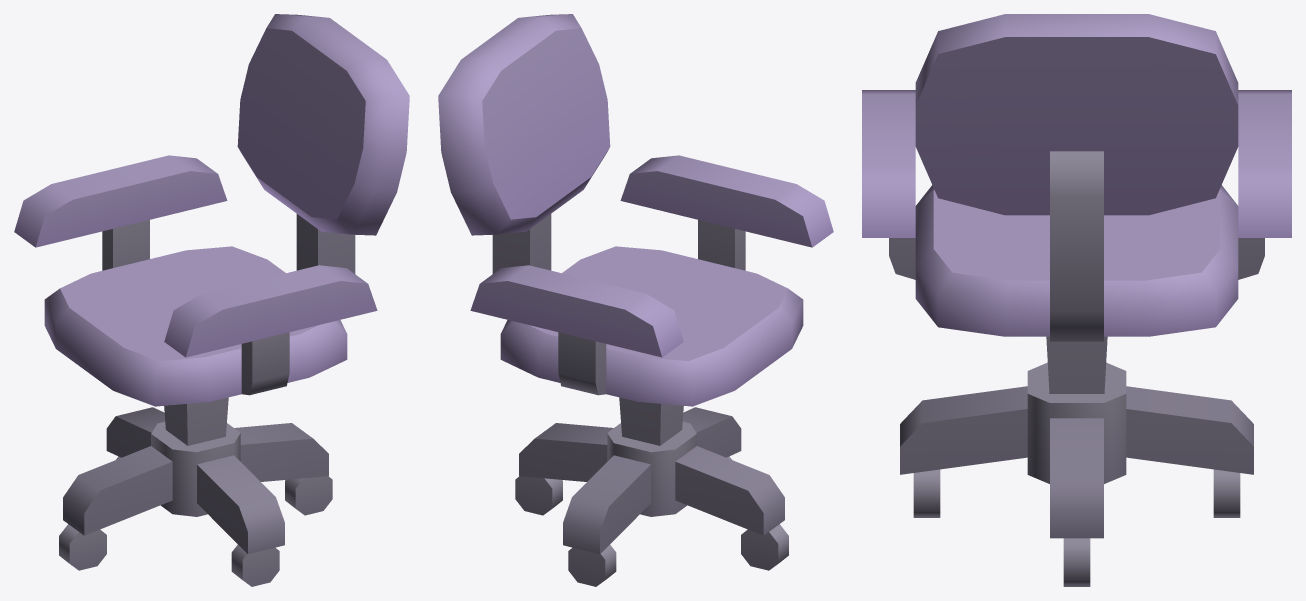
The model's file is desk-chair-armrests.glb.
3 views of the same model, side by side, from view 1: azimuth 30°, elevation 25°; view 2: azimuth 150°, elevation 25°; view 3: azimuth 270°, elevation 25° (orthographic). The views are drawn at different scales.
Visible parts, largest first — view 1: desk-chair-armrests; view 2: desk-chair-armrests; view 3: desk-chair-armrests.
Part boxes in pixels (bbox=[...]): desk-chair-armrests: bbox=[14, 14, 409, 586]; desk-chair-armrests: bbox=[438, 14, 833, 586]; desk-chair-armrests: bbox=[862, 14, 1291, 586].
Size of the model in its own units: 0.4751 by 0.7182 by 0.48.
